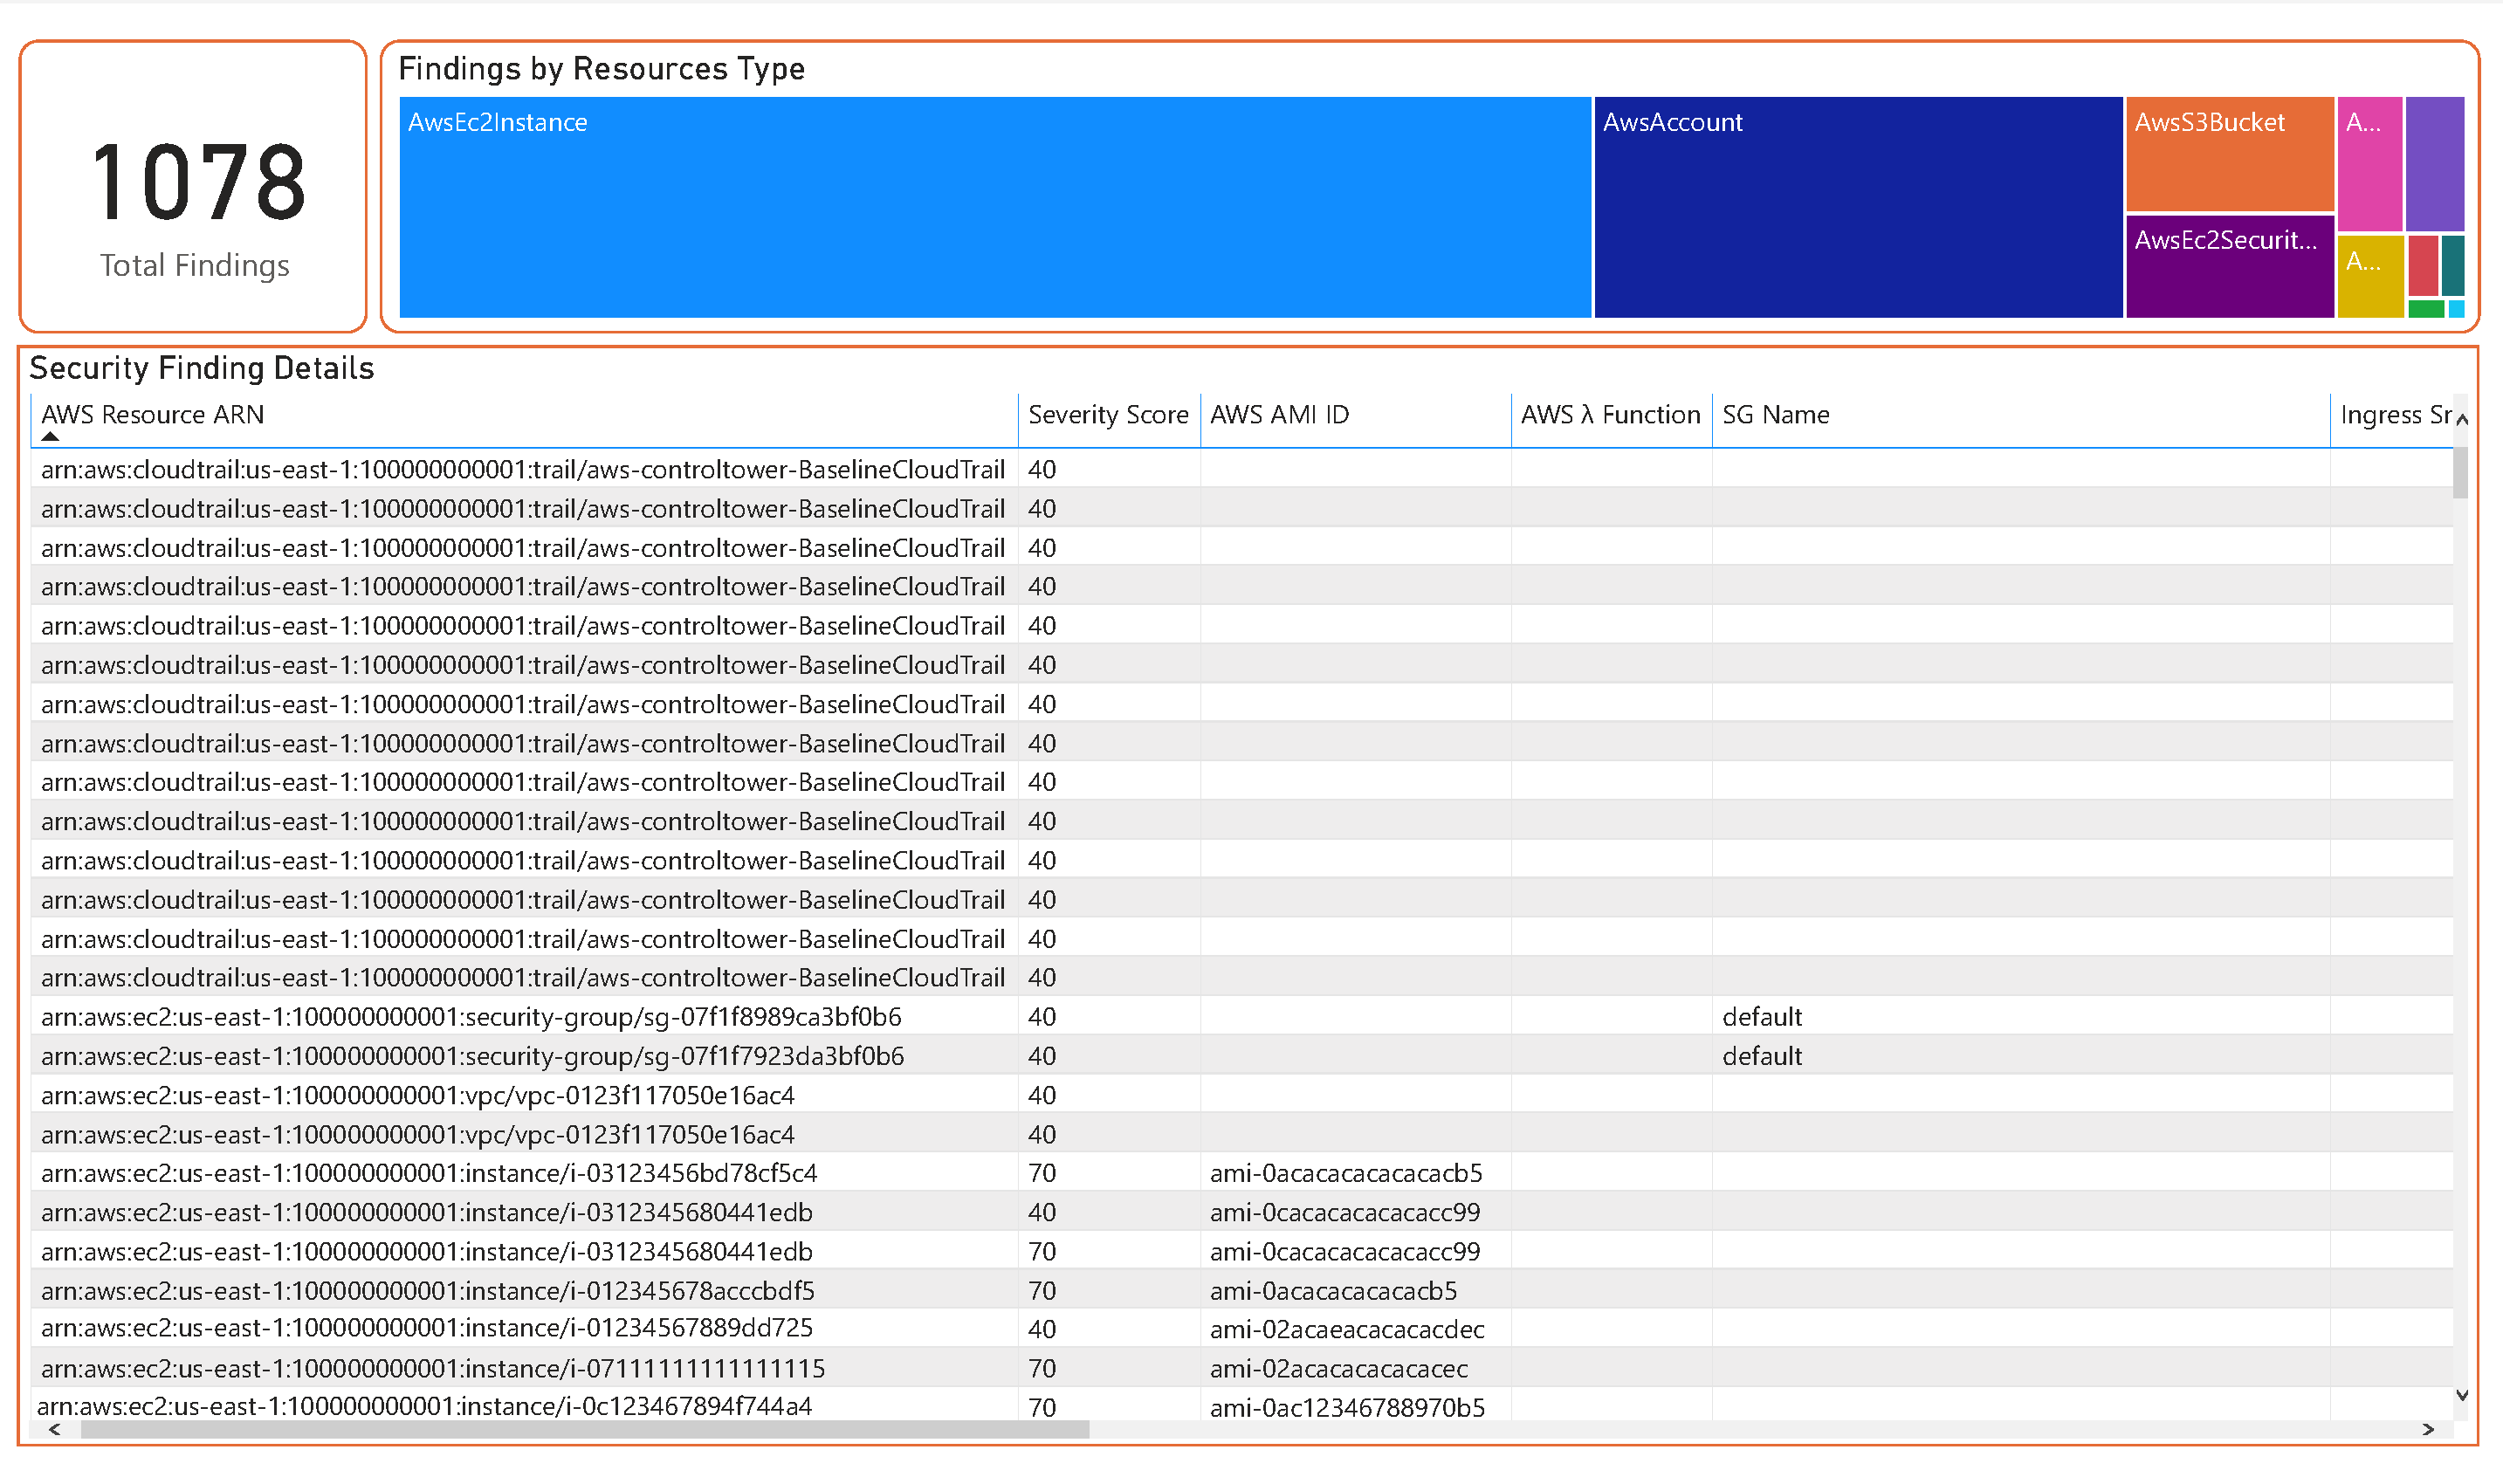

The page's visual inventory and layout, read from the dashboard file:
{"tool":"powerbi","page":{"name":"Analyze","canvas":[1280,720],"ordinal":1},"visuals":[{"type":"tableEx","title":"Security Finding Details","fields":{"Values":["SecurityHub-Findings.Resources.Id","SecurityHub-Findings.Severity.Normalized","SecurityHub-Findings.Resources.Details.AwsEc2Instance.ImageId","SecurityHub-Findings.Resources.Details.AwsLambdaFunction.FunctionName","SecurityHub-Findings.SecurityGroup.GroupName","SecurityHub-Findings.SecurityGroup.IpRanges.CidrIp","SecurityHub-Findings.SecurityGroup.IpPermissions.FromPort","SecurityHub-Findings.SecurityGroup.IpPermissions.ToPort","SecurityHub-Findings.SecurityGroup.IpPermissions.IpProtocol","SecurityHub-Findings.SecurityGroup.Egress.CidrIp","SecurityHub-Findings.SecurityGroup.Egress.FromPort","SecurityHub-Findings.SecurityGroup.Egress.ToPort"]},"box":[9.2,156.3,1258.7,563.2],"z":0},{"type":"card","fields":{"Values":["CountNonNull(SecurityHub-Findings.Id)"]},"box":[10.2,0,177.6,149.8],"z":1000},{"type":"treemap","fields":{"Group":["SecurityHub-Findings.Resources.Type"],"Values":["CountNonNull(SecurityHub-Findings.Id)"]},"box":[194.2,0,1073.8,149.8],"z":2000}]}

Visuals, with their boxes on the page's 1280x720 design canvas (x1, y1, x2, y2). These are canvas units, not pixel positions in the 2503x1484 screenshot, which may show the page scaled, cropped or inside an application window:
"Security Finding Details" tableEx: <box>9,156,1268,720</box>
card - CountNonNull(SecurityHub-Findings.Id): <box>10,0,188,150</box>
treemap - SecurityHub-Findings.Resources.Type x CountNonNull(SecurityHub-Findings.Id): <box>194,0,1268,150</box>
